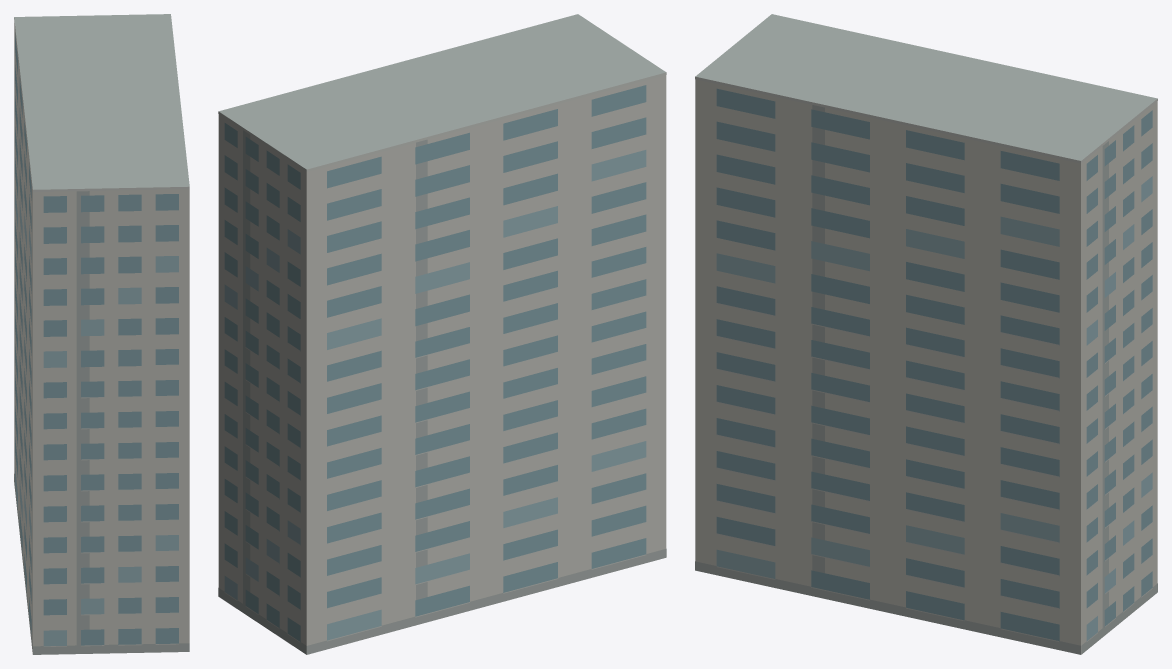
File: residential-0c45fdd9-34d9-4547-a481-ce209a134557.glb
3 views of the same model, side by side, from view 1: azimuth 30°, elevation 25°; view 2: azimuth 150°, elevation 25°; view 3: azimuth 270°, elevation 25° (orthographic). The views are drawn at different scales.
Parts seen in each view (by area): view 1: residential-0c45fdd9-34d9-4547-a481-ce209a134557.tmp; view 2: residential-0c45fdd9-34d9-4547-a481-ce209a134557.tmp; view 3: residential-0c45fdd9-34d9-4547-a481-ce209a134557.tmp.
Part boxes in pixels (box(x1,y1,x2,y2)): residential-0c45fdd9-34d9-4547-a481-ce209a134557.tmp: box(14, 14, 189, 654); residential-0c45fdd9-34d9-4547-a481-ce209a134557.tmp: box(218, 14, 666, 654); residential-0c45fdd9-34d9-4547-a481-ce209a134557.tmp: box(695, 14, 1157, 654).
Size of the model in its own units: 30.01 by 47 by 39.91.
